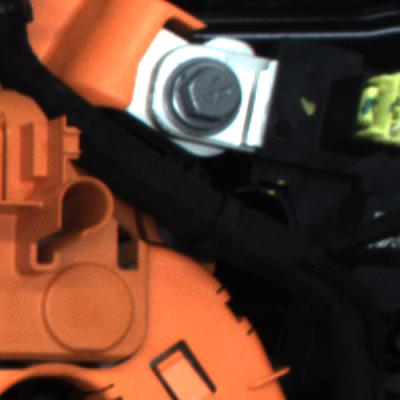nut_b: (166, 56, 249, 129)
